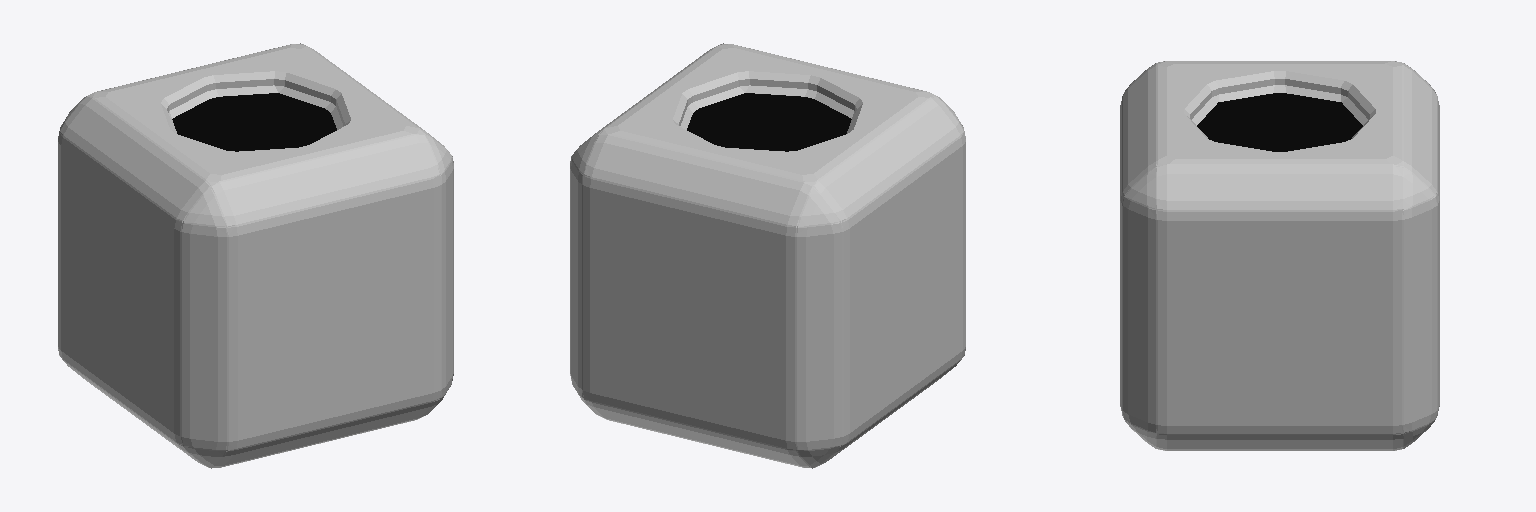
Rendered from portal.obj.
3 renders of one model, left to right at view 1: azimuth 30°, elevation 25°; view 2: azimuth 150°, elevation 25°; view 3: azimuth 270°, elevation 25°, orthographic.
Parts seen in each view (by area): view 1: Cube; view 2: Cube; view 3: Cube.
Boxes of the visible parts, <box> form: Cube: <box>58,43,453,468</box>; Cube: <box>570,43,965,468</box>; Cube: <box>1120,61,1439,450</box>.
Bounding box in the file's own units: 1 × 1 × 1.